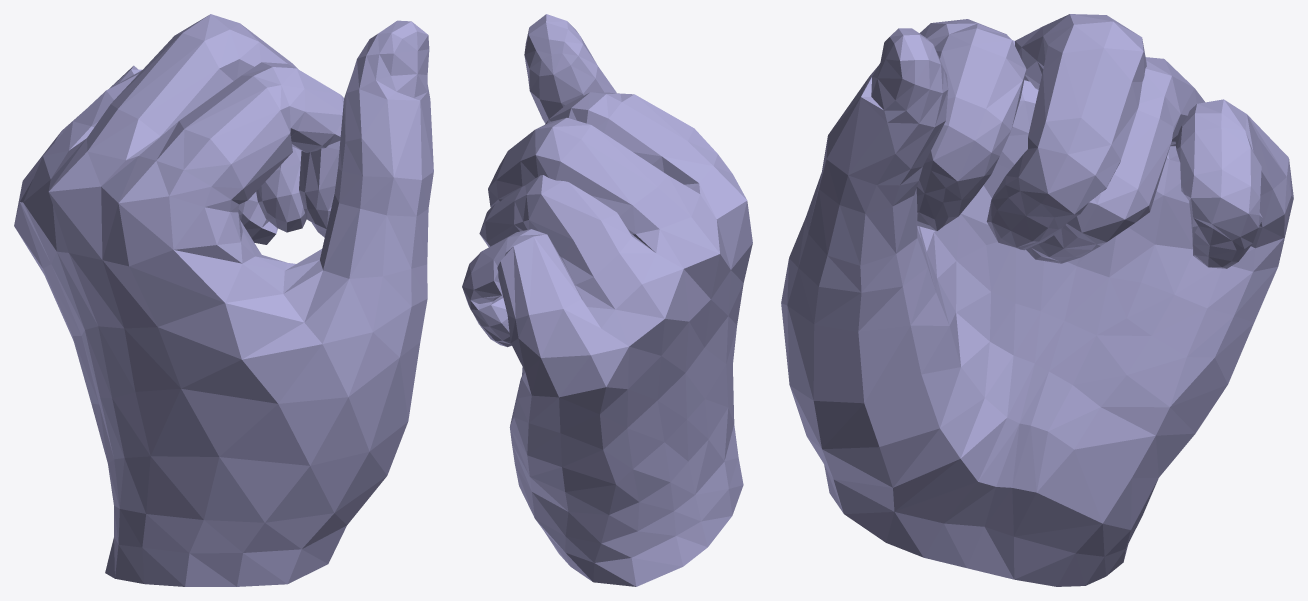
Rendered from frame_0079_source_000079_hand.glb.
The picture shows the model from 3 angles, left to right: view 1: azimuth 30°, elevation 25°; view 2: azimuth 150°, elevation 25°; view 3: azimuth 270°, elevation 25°; orthographic projection. The views are drawn at different scales.
Visible parts, largest first — view 1: world; view 2: world; view 3: world.
Boxes of the visible parts, x1,y1,x2,y2 form: world: [14, 14, 433, 586]; world: [462, 14, 752, 586]; world: [781, 14, 1293, 586].
Size of the model in its own units: 0.0675 by 0.1194 by 0.0909.
